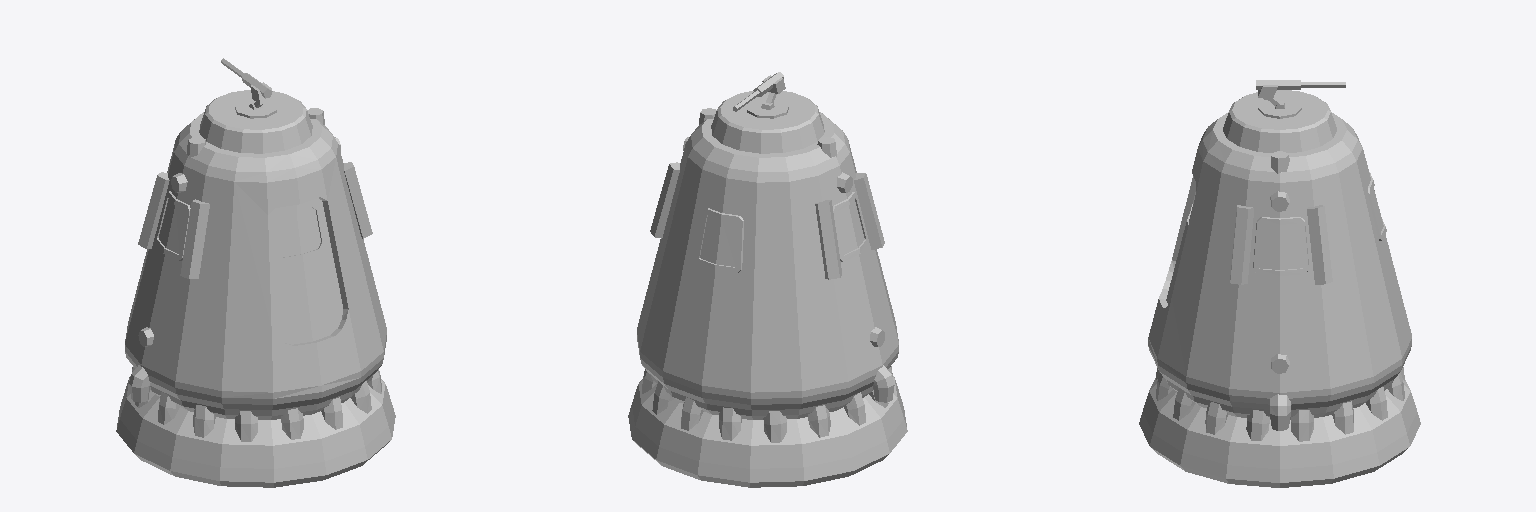
File: Pod.obj
3 renders of one model, left to right at view 1: azimuth 30°, elevation 25°; view 2: azimuth 150°, elevation 25°; view 3: azimuth 270°, elevation 25°, orthographic.
Parts seen in each view (by area): view 1: Pod_Cylinder.001; view 2: Pod_Cylinder.001; view 3: Pod_Cylinder.001.
Boxes of the visible parts, box(x1,y1,x2,y2) form: Pod_Cylinder.001: box(116, 58, 395, 487); Pod_Cylinder.001: box(628, 72, 907, 487); Pod_Cylinder.001: box(1139, 80, 1420, 487).
Bounding box in the file's own units: 6.32 × 8.47 × 6.16.